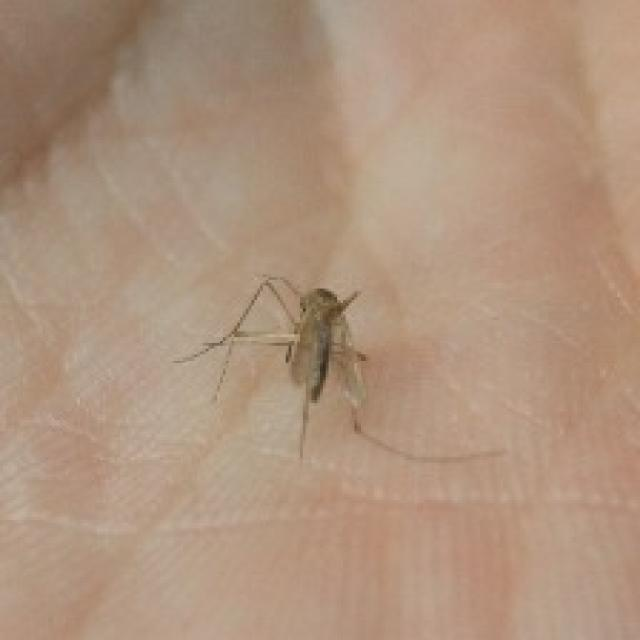culex: (171, 271, 503, 463)
